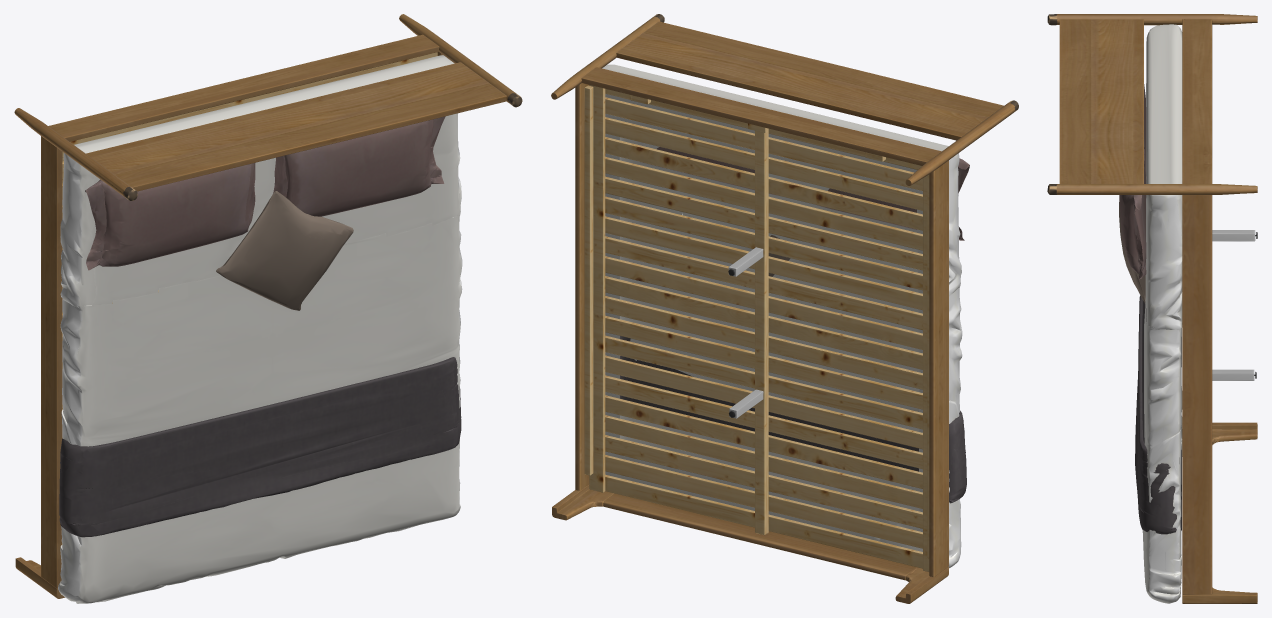
File: raw_model.glb
3 renders of one model, left to right at view 1: azimuth 30°, elevation 25°; view 2: azimuth 150°, elevation 25°; view 3: azimuth 270°, elevation 25°, orthographic. The views are drawn at different scales.
Visible parts, largest first — view 1: raw_model.018; view 2: raw_model.018; view 3: raw_model.018.
Part boxes in pixels (x1,y1,x2,y2): raw_model.018: (14,14,522,603); raw_model.018: (551,14,1018,603); raw_model.018: (1047,14,1257,603).
Size of the model in its own units: 2.31 by 2.59 by 1.17.
1 material, 1 textured.
